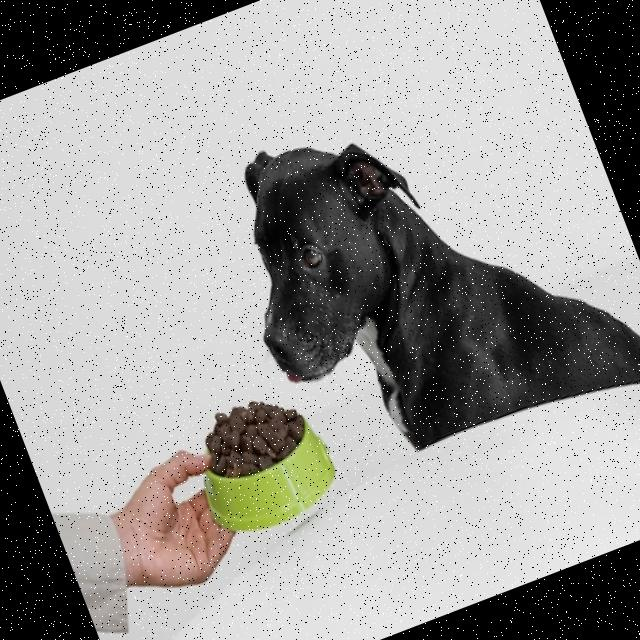Dog: (199, 37, 640, 512)
